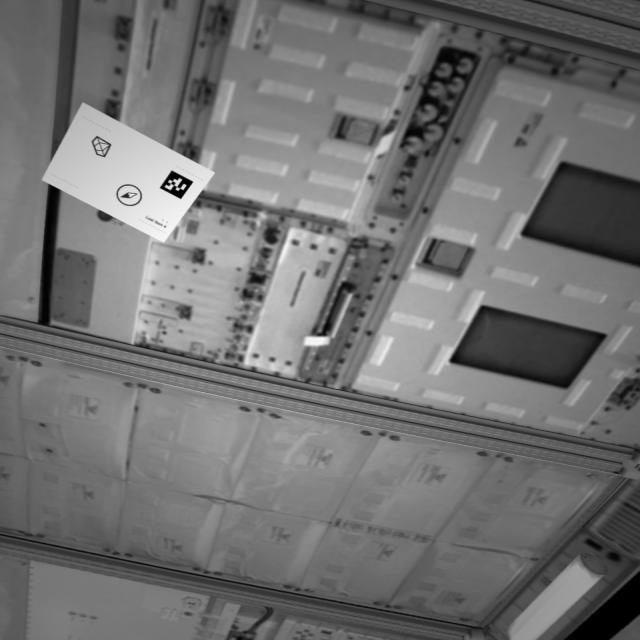compass: (113, 181, 147, 211)
diamond: (88, 134, 119, 162)
